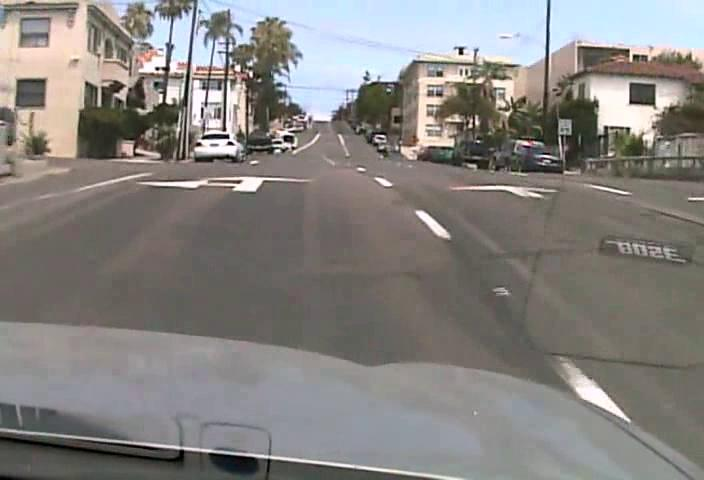speedLimitUrdbl: (556, 117, 572, 136)
